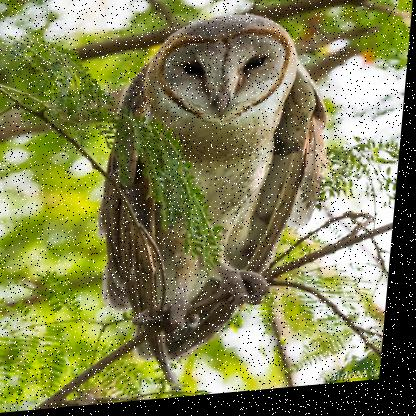Burung: (93, 12, 342, 367)
